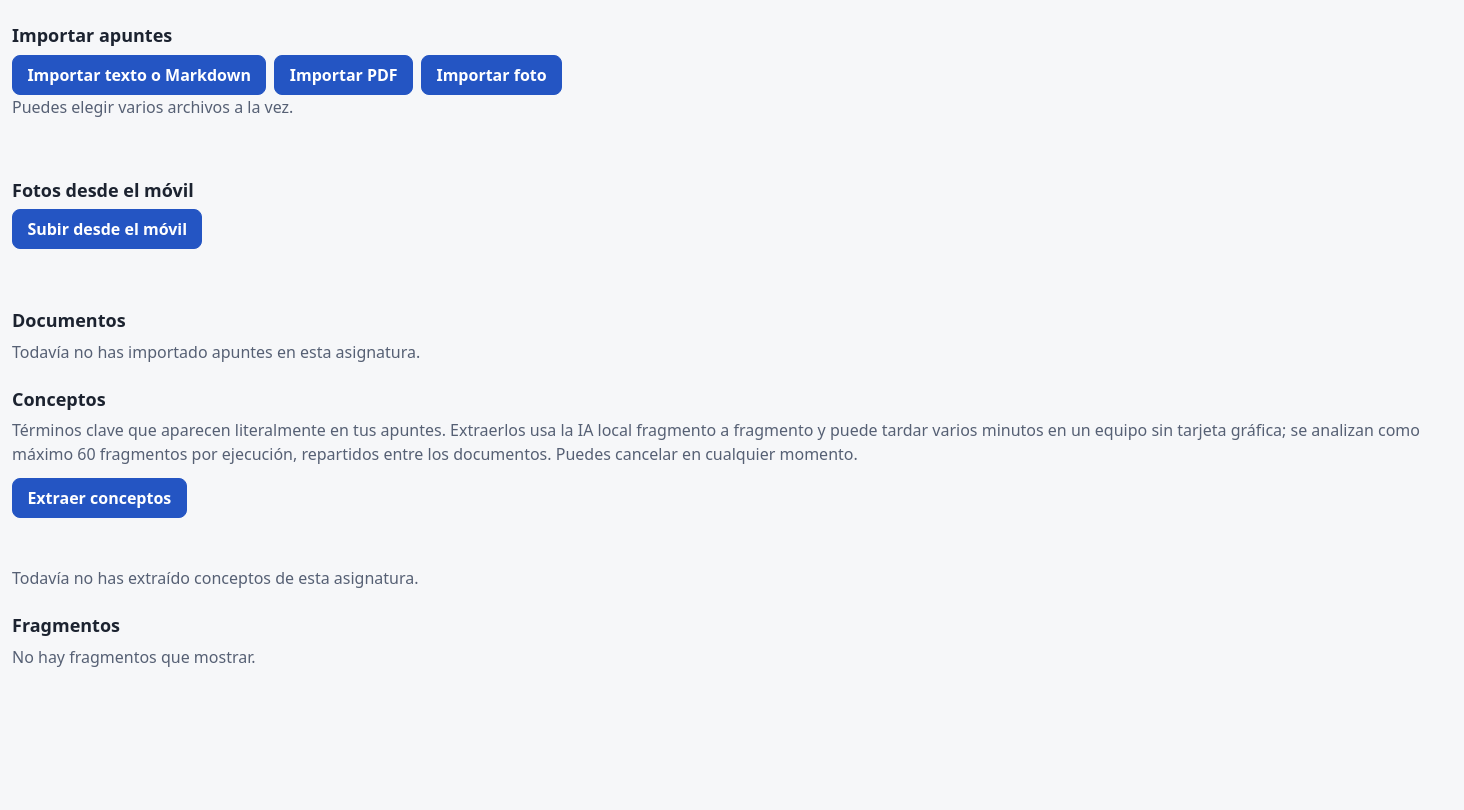
Test: Notes › importa un archivo de texto y recarga la lista
Click the button "Importar texto o Markdown" at [139, 74], box [12,54,266,94]
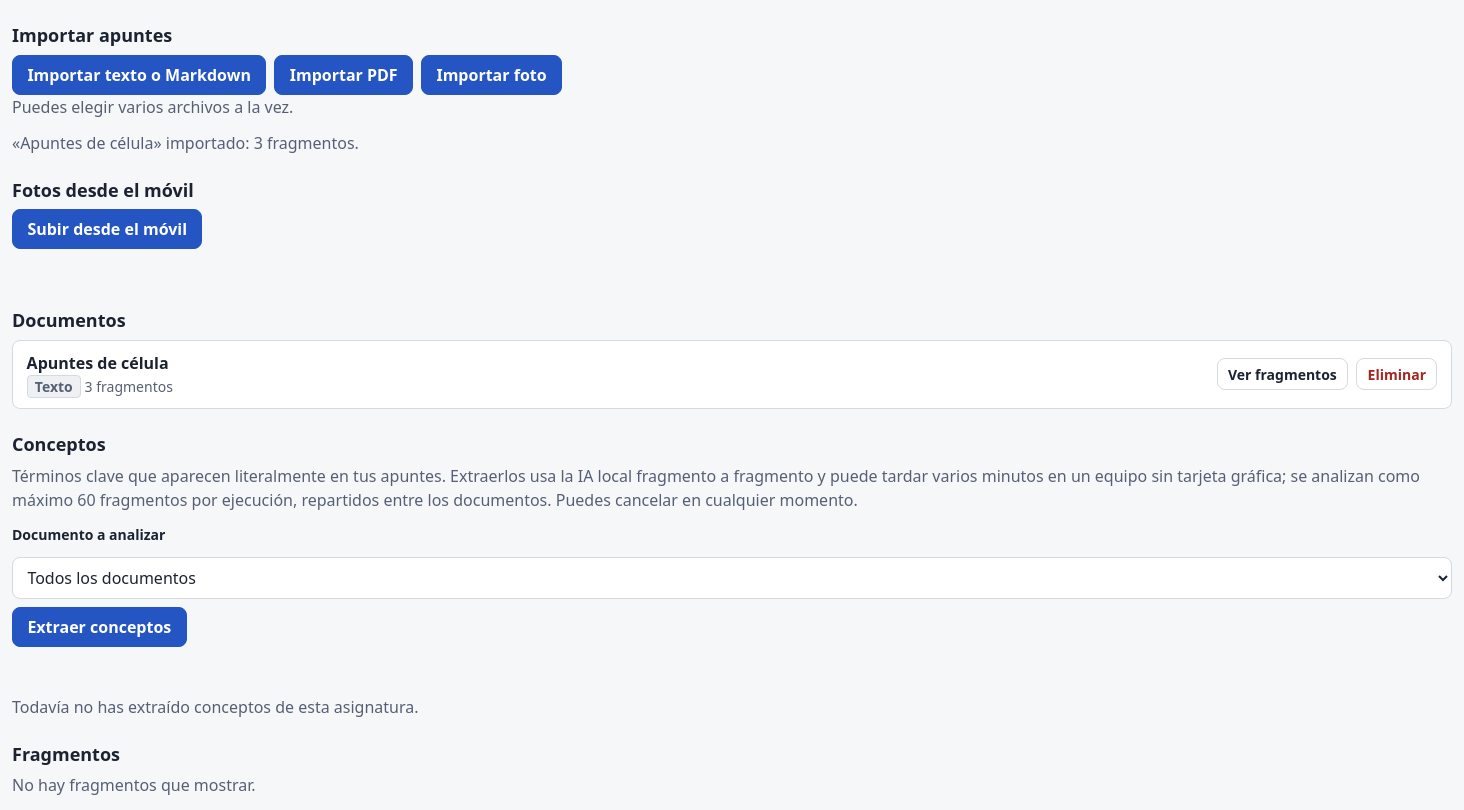
Expected: the message reads "«Apuntes de célula» importado: 3 fragmentos.", [12,132,359,154]
Expected: the list named "Documentos" is shown, [12,340,1452,409]
